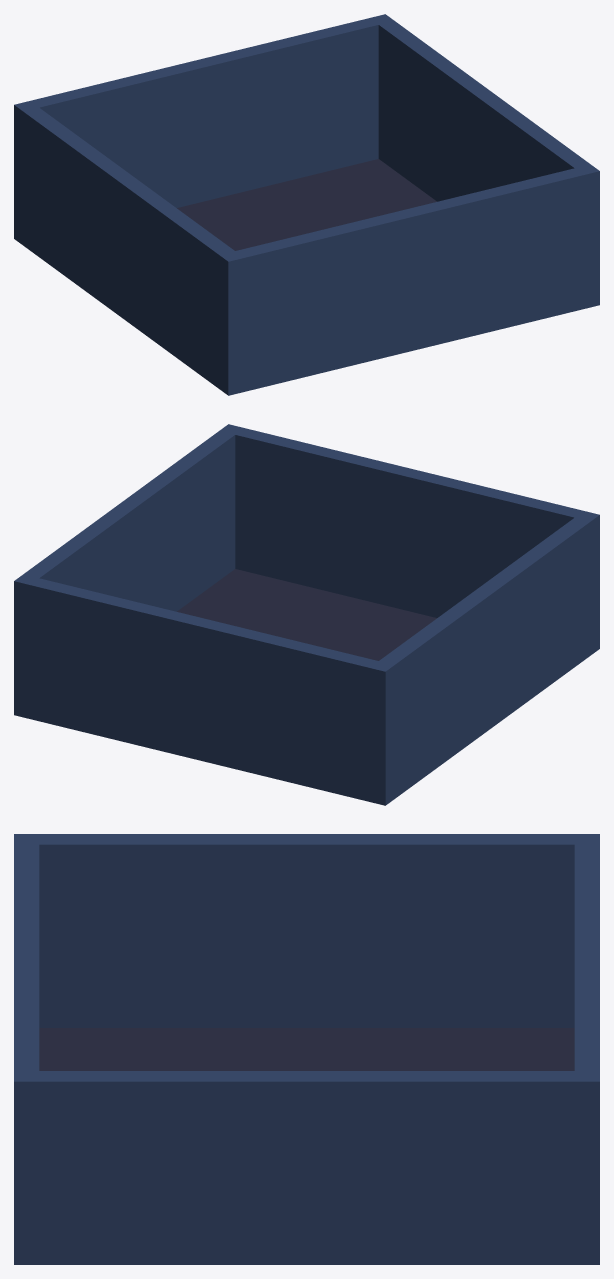
The model's file is WallandFloor.fbx.
3 renders of one model, top to bottom at view 1: azimuth 30°, elevation 25°; view 2: azimuth 150°, elevation 25°; view 3: azimuth 270°, elevation 25°, orthographic. The views are drawn at different scales.
Visible parts, largest first — view 1: wallandfloor_final; view 2: wallandfloor_final; view 3: wallandfloor_final.
Part boxes in pixels (x1=…): wallandfloor_final: x1=14, y1=14, x2=599, y2=395; wallandfloor_final: x1=14, y1=424, x2=599, y2=805; wallandfloor_final: x1=14, y1=834, x2=599, y2=1264.
Size of the model in its own units: 2320 by 800 by 2320.
